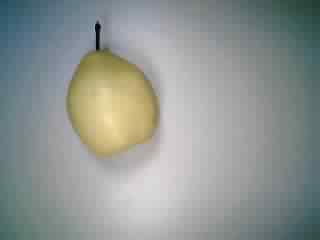pear: (50, 15, 169, 165)
